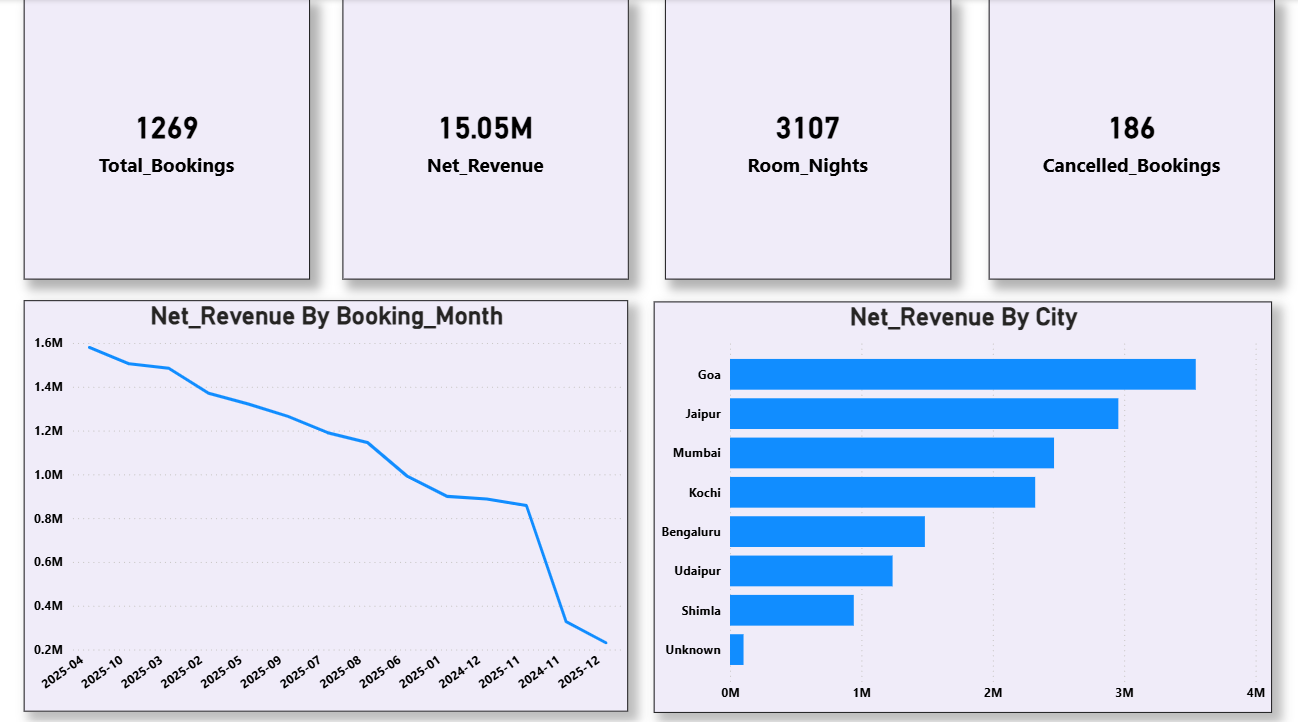

This screenshot's page, from the dashboard's own definition file:
{"tool":"powerbi","page":{"name":"Overview_Main","canvas":[1280,720],"ordinal":0},"visuals":[{"type":"card","fields":{"Values":["Sum(gold_hotel_summary.total_bookings)"]},"box":[23.3,0,279.9,274.4],"z":0},{"type":"card","fields":{"Values":["Sum(gold_hotel_summary.net_revenue)"]},"box":[334.8,0,279.9,274.4],"z":1000},{"type":"card","fields":{"Values":["Sum(gold_hotel_summary.room_nights)"]},"box":[650.4,0,279.9,274.4],"z":2000},{"type":"card","fields":{"Values":["Sum(gold_monthly_bookings.cancelled_bookings)"]},"box":[967.4,0,279.9,274.4],"z":3000},{"type":"lineChart","title":"Net_Revenue By Booking_Month","fields":{"Category":["gold_monthly_bookings.booking_month"],"Y":["Sum(gold_monthly_bookings.net_revenue)"]},"box":[23.3,295,591.4,402.1],"z":4000},{"type":"clusteredBarChart","title":"Net_Revenue By City","fields":{"Category":["gold_hotel_summary.city"],"Y":["Sum(gold_hotel_summary.net_revenue)"]},"box":[639.5,296.4,605.1,402.1],"z":5000}]}

Visuals, with their boxes in screenshot pixels (x1, y1, x2, y2), scaled from the page's 1280x720 canvas onto the 1298x722 screenshot:
card - Sum(gold_hotel_summary.total_bookings): detection(24, 0, 307, 275)
card - Sum(gold_hotel_summary.net_revenue): detection(340, 0, 623, 275)
card - Sum(gold_hotel_summary.room_nights): detection(660, 0, 943, 275)
card - Sum(gold_monthly_bookings.cancelled_bookings): detection(981, 0, 1265, 275)
"Net_Revenue By Booking_Month" lineChart: detection(24, 296, 623, 699)
"Net_Revenue By City" clusteredBarChart: detection(648, 297, 1262, 700)
